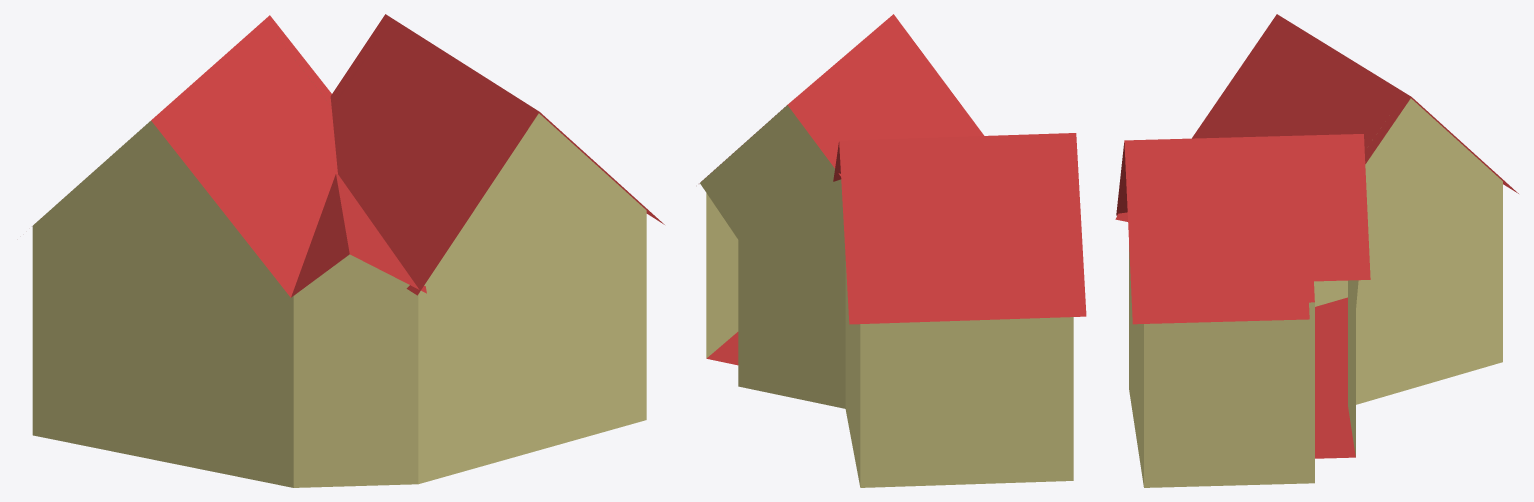
The picture shows the model from 3 angles, left to right: view 1: azimuth 30°, elevation 25°; view 2: azimuth 150°, elevation 25°; view 3: azimuth 270°, elevation 25°; orthographic projection. The views are drawn at different scales.
Bounding box in the file's own units: 21 × 16.85 × 13.7.
